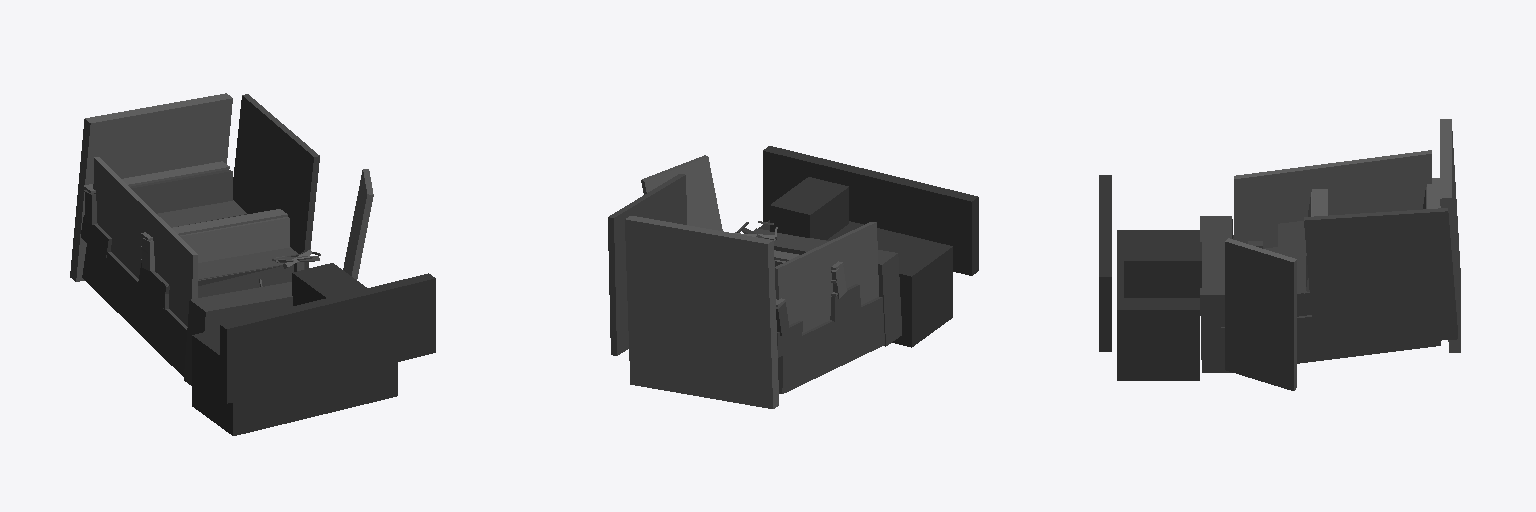
File: truck_spider162.obj
3 views of the same model, side by side, from view 1: azimuth 30°, elevation 25°; view 2: azimuth 150°, elevation 25°; view 3: azimuth 270°, elevation 25° (orthographic).
Visible parts, largest first — view 1: Cube.000_Cube.039, Cube.009, Cube_Cube.001, Cube.063, Cube.114, Cube.002_Cube.005, Cube.001_Cube.001, Cube.000_Cube.001, Cube.065, Cube.003_Cube.011, Cube.058, Cube.012_Cube.040 (+4 smaller); view 2: Cube.009, Cube.000_Cube.039, Cube.114, Cube_Cube.001, Cube.002_Cube.005, Cube.063, Cube.012_Cube.040, Cube.036, Cube.001_Cube.001, Cube.058; view 3: Cube.063, Cube.114, Cube.036, Cube_Cube.001, Cube.012_Cube.040, Cube.001_Cube.001, Cube.009, Cube.000_Cube.039, Cube.002_Cube.005, Cube.003_Cube.011.
Part boxes in pixels (left/top/right/bottom): Cube.000_Cube.039: left=220, top=273, right=435, bottom=403; Cube.009: left=70, top=93, right=232, bottom=281; Cube_Cube.001: left=192, top=328, right=397, bottom=435; Cube.063: left=233, top=94, right=319, bottom=268; Cube.114: left=93, top=157, right=197, bottom=326; Cube.002_Cube.005: left=82, top=244, right=187, bottom=376; Cube.001_Cube.001: left=184, top=282, right=292, bottom=385; Cube.000_Cube.001: left=142, top=217, right=289, bottom=270; Cube.065: left=84, top=169, right=232, bottom=224; Cube.003_Cube.011: left=151, top=248, right=304, bottom=309; Cube.058: left=81, top=200, right=246, bottom=260; Cube.012_Cube.040: left=292, top=263, right=366, bottom=305; Cube.009: left=625, top=216, right=778, bottom=408; Cube.000_Cube.039: left=763, top=146, right=978, bottom=275; Cube.114: left=775, top=222, right=878, bottom=333; Cube_Cube.001: left=758, top=220, right=952, bottom=347; Cube.002_Cube.005: left=778, top=297, right=884, bottom=393; Cube.063: left=608, top=174, right=686, bottom=355; Cube.012_Cube.040: left=770, top=177, right=848, bottom=239; Cube.036: left=641, top=155, right=722, bottom=230; Cube.001_Cube.001: left=753, top=228, right=901, bottom=346; Cube.058: left=777, top=321, right=802, bottom=357; Cube.063: left=1304, top=208, right=1457, bottom=348; Cube.114: left=1233, top=150, right=1431, bottom=248; Cube.036: left=1225, top=238, right=1296, bottom=390; Cube_Cube.001: left=1117, top=230, right=1199, bottom=380; Cube.012_Cube.040: left=1124, top=242, right=1201, bottom=297; Cube.001_Cube.001: left=1200, top=216, right=1232, bottom=372; Cube.009: left=1440, top=119, right=1460, bottom=352; Cube.000_Cube.039: left=1099, top=175, right=1111, bottom=351; Cube.002_Cube.005: left=1219, top=247, right=1440, bottom=372; Cube.003_Cube.011: left=1279, top=221, right=1305, bottom=293.
Bounding box in the file's own units: 7.12 × 5.42 × 9.31.